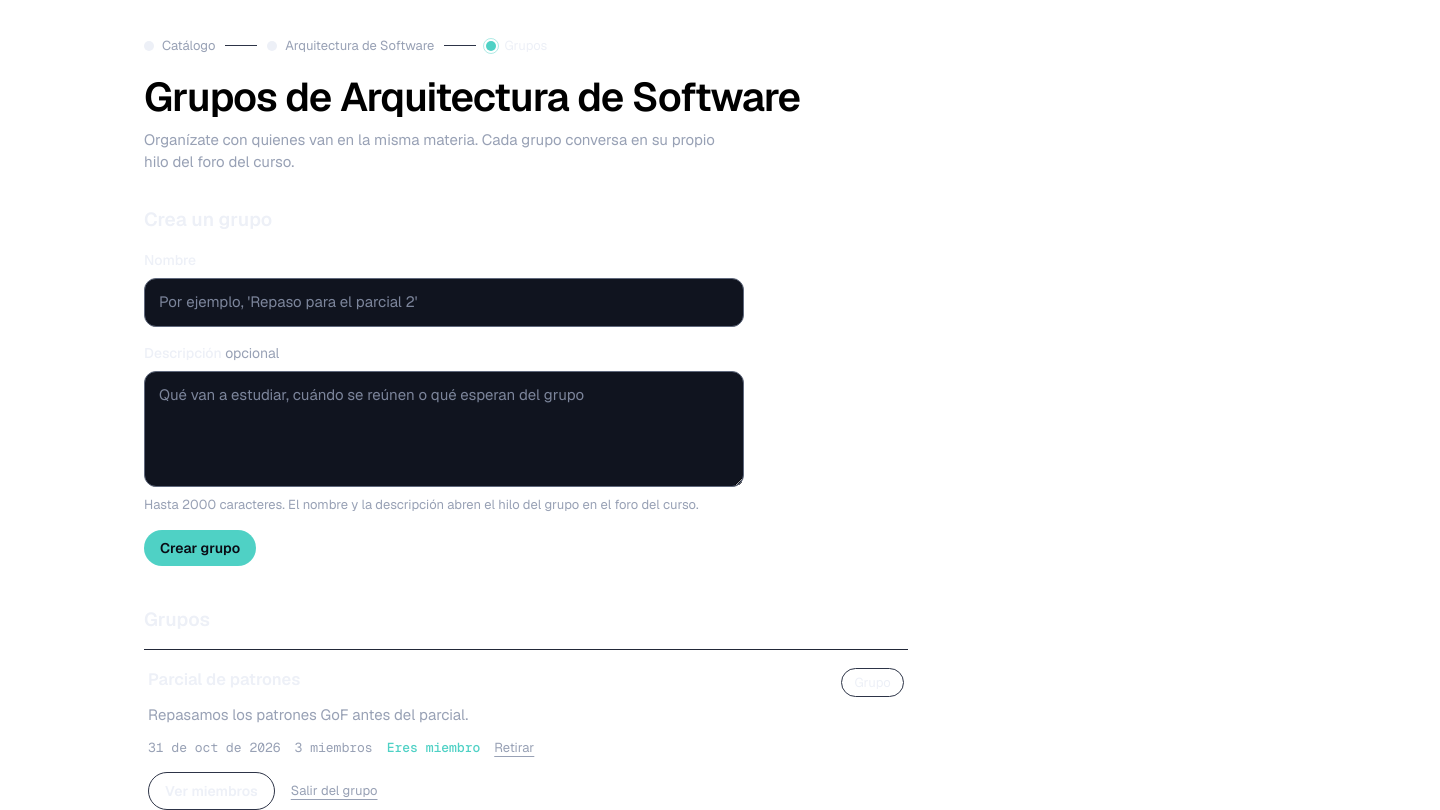
Test case: StudyGroupsPage › quien puede retirarlo lo retira tras confirmarlo: sale de la lista, el foco va a la lista y se anuncia
Click the button with aria-label "Retirar el grupo Parcial de patrones" at (514, 748), box [494,736,534,760]
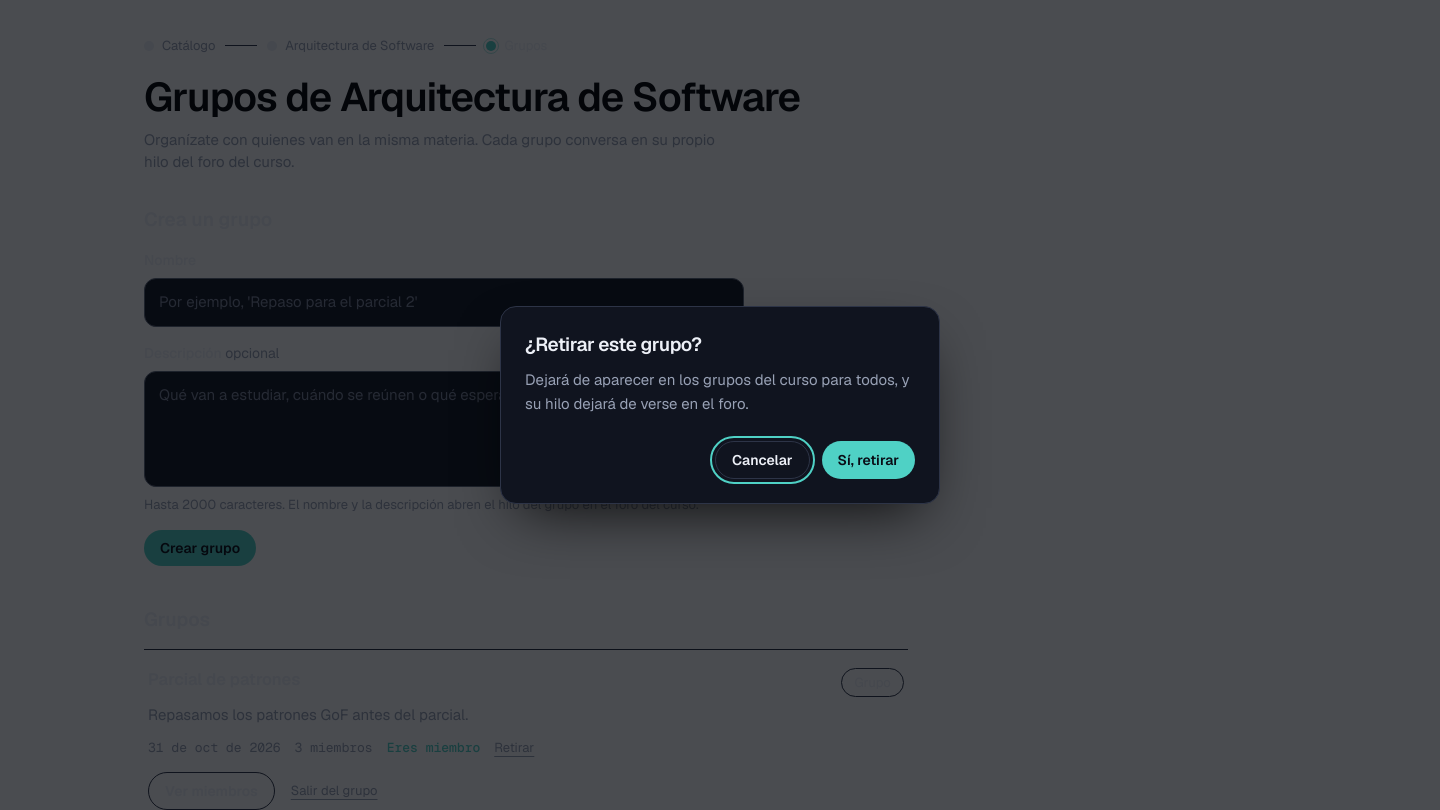
Result: the text "su hilo dejará de verse en el foro" is shown at [525,370,910,413]
Click the button "Sí, retirar" at (868, 460), box [822,441,915,479]
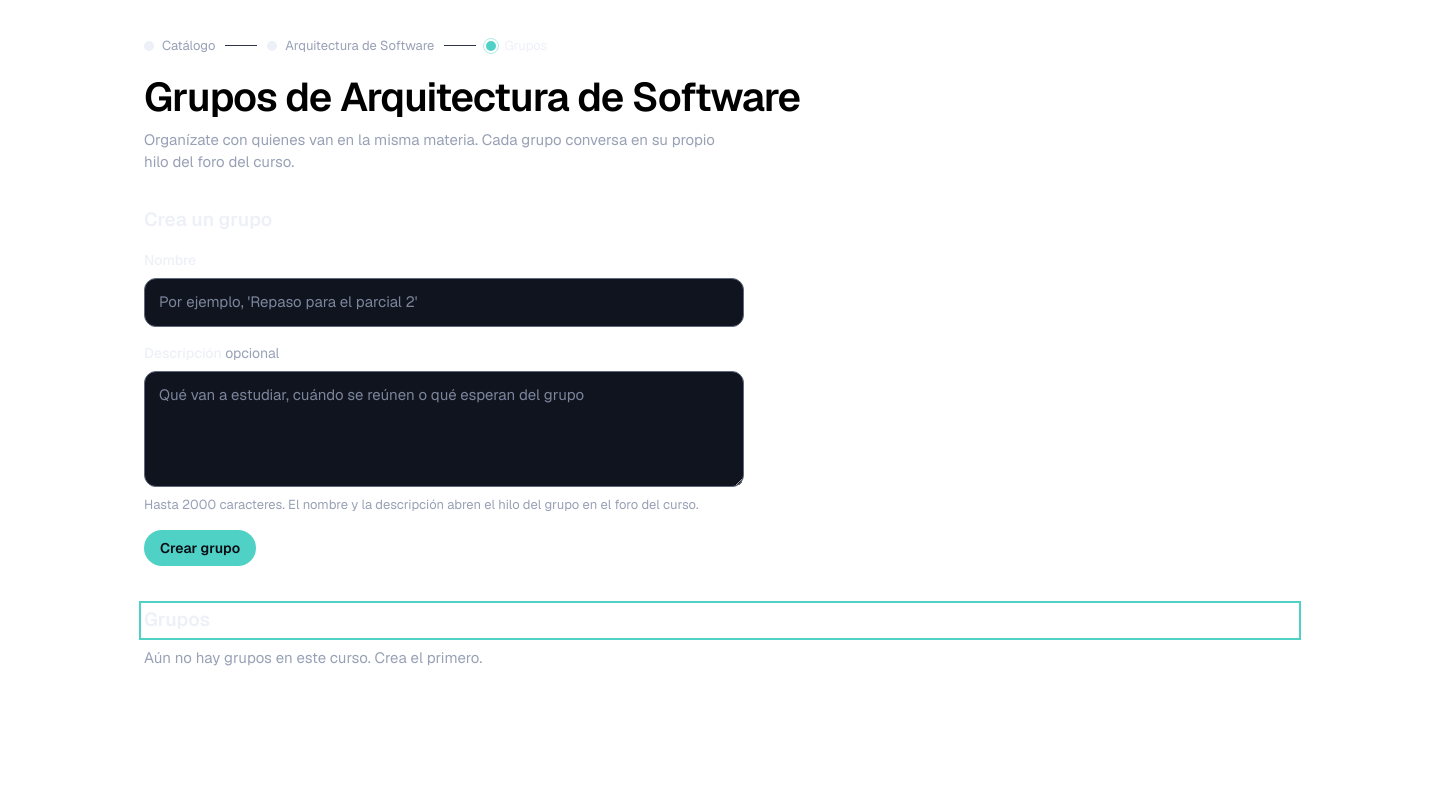
Result: the text "Aún no hay grupos en este curso. Crea el primero." is shown at [144,648,482,667]
